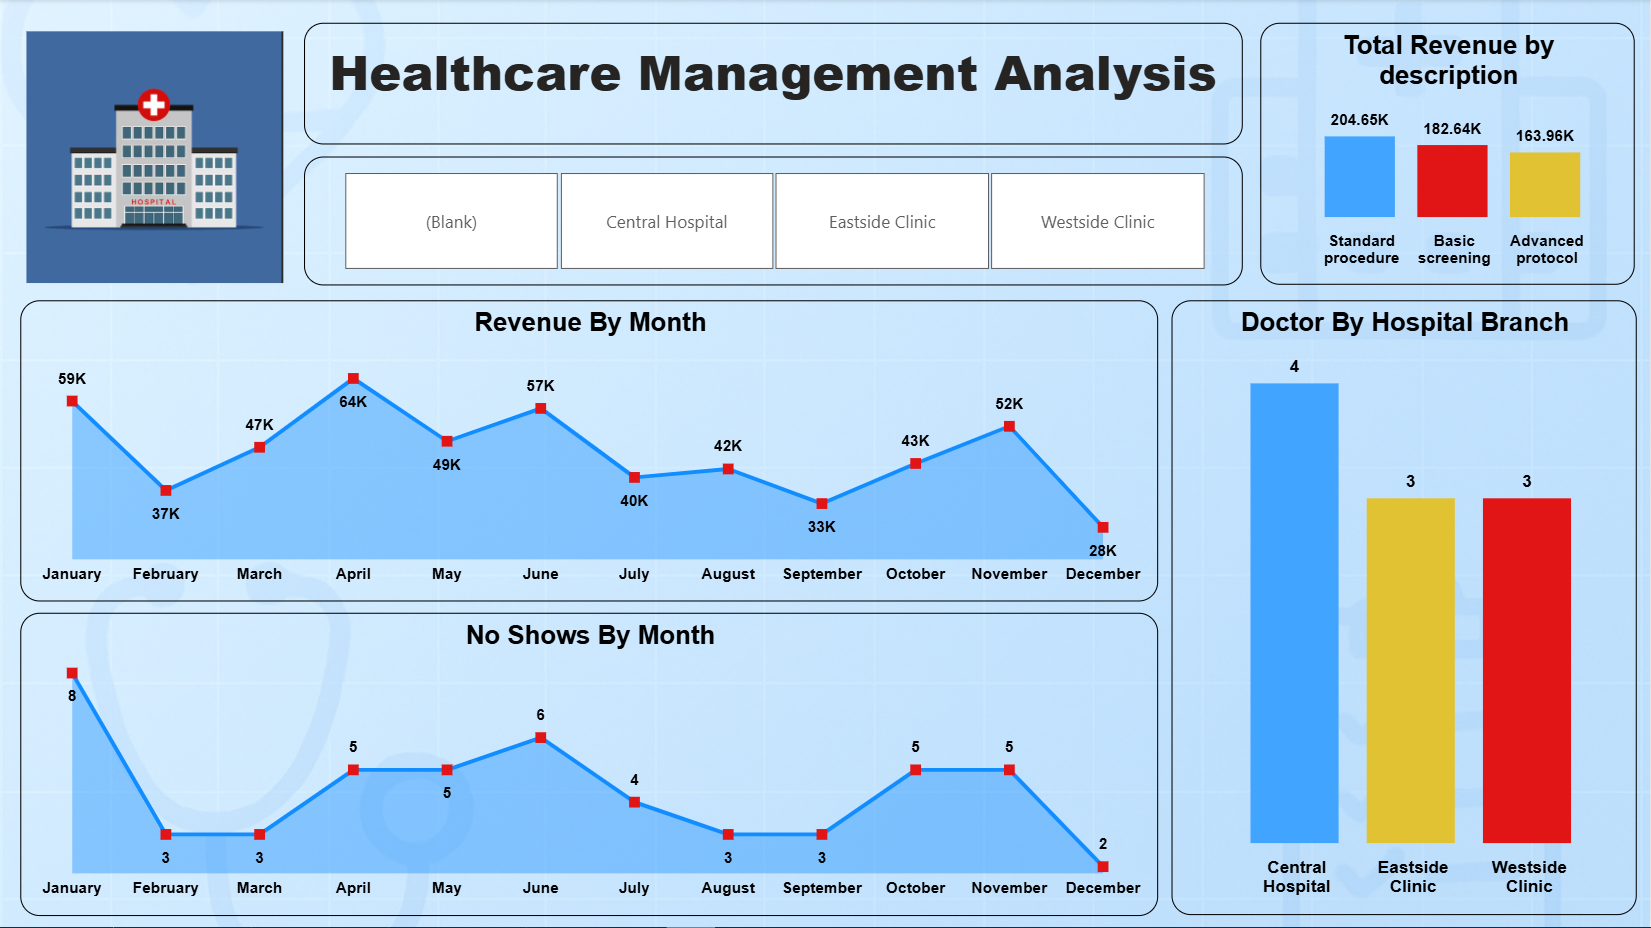

The dashboard page shown, as its layout file describes it:
{"tool":"powerbi","page":{"name":" Dashboard_4","canvas":[1280,720],"ordinal":3},"visuals":[{"type":"textbox","box":[236,18.6,727.9,94.2],"z":0},{"type":"image","box":[16.3,10.5,209.3,223.3],"z":1000},{"type":"slicer","fields":{"Values":["doctors.hospital_branch"]},"box":[236,122.1,727.9,100],"z":2000},{"type":"clusteredColumnChart","title":"Doctor By Hospital Branch","fields":{"Category":["doctors.hospital_branch"],"Y":["CountNonNull(doctors.doctor_id)"]},"box":[909.3,233.7,360.5,476.7],"z":3000},{"type":"lineChart","title":"No Shows By Month","fields":{"Y":["CountNonNull(Appointments.appointment_id)"],"Category":["Appointments.appointment_date.Variation.Date Hierarchy.Month"]},"box":[16.3,475.6,882.6,234.9],"z":4000},{"type":"lineChart","title":"Revenue By Month","fields":{"Y":["Sum(Billing.amount)"],"Category":["Billing.bill_date.Variation.Date Hierarchy.Month"]},"box":[16.3,233.7,882.6,233.7],"z":5000},{"type":"clusteredColumnChart","title":"Total Revenue by description","fields":{"Category":["Treatments.description"],"Y":["Sum(Treatments.cost)"]},"box":[977.9,18.6,290.7,203.5],"z":6000}]}

Visuals, with their boxes in screenshot pixels (x1, y1, x2, y2), scaled from the page's 1280x720 canvas onto the 1651x928 screenshot:
textbox: select_region(304, 24, 1243, 145)
image: select_region(21, 14, 291, 301)
slicer - doctors.hospital_branch: select_region(304, 157, 1243, 286)
"Doctor By Hospital Branch" clusteredColumnChart: select_region(1173, 301, 1638, 916)
"No Shows By Month" lineChart: select_region(21, 613, 1159, 916)
"Revenue By Month" lineChart: select_region(21, 301, 1159, 602)
"Total Revenue by description" clusteredColumnChart: select_region(1261, 24, 1636, 286)
